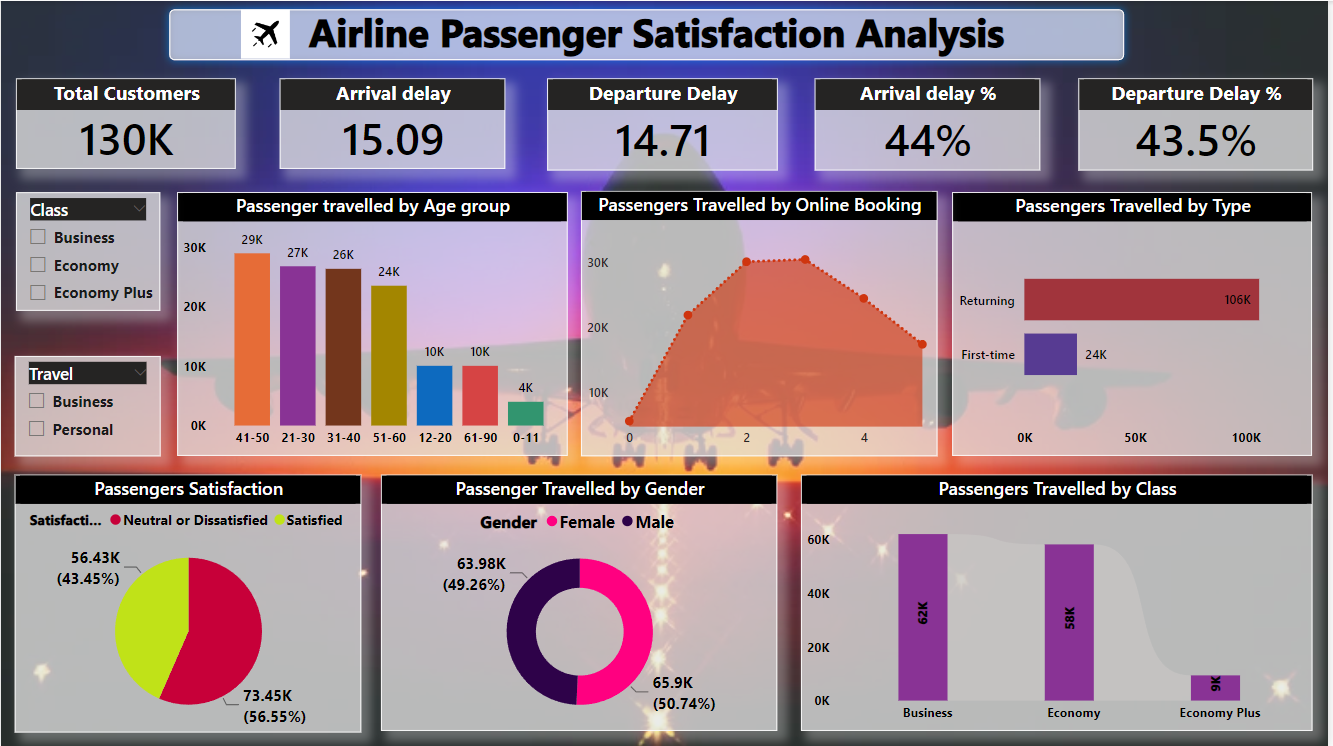

The page's visual inventory and layout, read from the dashboard file:
{"tool":"powerbi","page":{"name":"Insight's","canvas":[1280,720],"ordinal":0},"visuals":[{"type":"card","title":"Total Customers","fields":{"Values":["airline_passenger_satisfaction.Total  customer"]},"box":[14.3,74.6,212.2,87.5],"z":0},{"type":"card","title":"Arrival delay ","fields":{"Values":["Avg(airline_passenger_satisfaction.Arrival Delay)"]},"box":[269.5,74.6,217.9,87.5],"z":1000},{"type":"card","title":"Departure Delay ","fields":{"Values":["Avg(airline_passenger_satisfaction.Departure Delay)"]},"box":[527.6,74.6,222.2,88.9],"z":2000},{"type":"card","title":"Arrival delay %","fields":{"Values":["airline_passenger_satisfaction.Percentage of Arrival delay"]},"box":[785.7,74.6,217.9,88.9],"z":3000},{"type":"card","title":"Departure Delay %","fields":{"Values":["airline_passenger_satisfaction.Percentage of department delay"]},"box":[1039.4,74.6,226.5,88.9],"z":4000},{"type":"clusteredColumnChart","title":"Passenger travelled by Age group","fields":{"Category":["airline_passenger_satisfaction.Age group"],"Y":["CountNonNull(airline_passenger_satisfaction.ID)"]},"box":[170.1,184.6,376.4,254.6],"z":5000},{"type":"pieChart","title":"Passengers Satisfaction","fields":{"Category":["airline_passenger_satisfaction.Satisfaction"],"Y":["CountNonNull(airline_passenger_satisfaction.ID)"]},"box":[13.3,457.3,334.2,248.6],"z":6000},{"type":"donutChart","title":"Passenger Travelled by Gender","fields":{"Category":["airline_passenger_satisfaction.Gender"],"Y":["CountNonNull(airline_passenger_satisfaction.ID)"]},"box":[366.8,457.3,382.5,247.4],"z":7000},{"type":"slicer","title":"Travel Type","fields":{"Values":["airline_passenger_satisfaction.Type of Travel"]},"box":[13.3,342.7,141.2,96.5],"z":8000},{"type":"ribbonChart","title":"Passengers Travelled by Class","fields":{"Category":["airline_passenger_satisfaction.Class"],"Y":["CountNonNull(airline_passenger_satisfaction.ID)"]},"box":[772.2,457.3,493.5,247.4],"z":9000},{"type":"slicer","title":"CLass","fields":{"Values":["airline_passenger_satisfaction.Class"]},"box":[14.3,184.9,139.1,114.7],"z":10000},{"type":"clusteredBarChart","title":"Passengers Travelled by Type","fields":{"Category":["airline_passenger_satisfaction.Customer Type"],"Y":["airline_passenger_satisfaction.Total  customer"]},"box":[918.3,184.6,347.5,254.6],"z":11000},{"type":"areaChart","title":"Passengers Travelled by Online Booking","fields":{"Y":["airline_passenger_satisfaction.Total  customer"],"Category":["airline_passenger_satisfaction.Ease of Online Booking"]},"box":[559.9,183.4,343.9,255.8],"z":12000},{"type":"shape","box":[154.4,0,937.6,65.2],"z":12500},{"type":"textbox","box":[226.8,0,812.1,61.5],"z":13000},{"type":"image","box":[226.8,1.2,56.7,61.5],"z":13001}]}

Visuals, with their boxes in screenshot pixels (x1, y1, x2, y2), scaled from the page's 1280x720 canvas onto the 1333x746 screenshot:
"Total Customers" card: (x1=15, y1=77, x2=236, y2=168)
"Arrival delay " card: (x1=281, y1=77, x2=508, y2=168)
"Departure Delay " card: (x1=549, y1=77, x2=781, y2=169)
"Arrival delay %" card: (x1=818, y1=77, x2=1045, y2=169)
"Departure Delay %" card: (x1=1082, y1=77, x2=1318, y2=169)
"Passenger travelled by Age group" clusteredColumnChart: (x1=177, y1=191, x2=569, y2=455)
"Passengers Satisfaction" pieChart: (x1=14, y1=474, x2=362, y2=731)
"Passenger Travelled by Gender" donutChart: (x1=382, y1=474, x2=780, y2=730)
"Travel Type" slicer: (x1=14, y1=355, x2=161, y2=455)
"Passengers Travelled by Class" ribbonChart: (x1=804, y1=474, x2=1318, y2=730)
"CLass" slicer: (x1=15, y1=192, x2=160, y2=310)
"Passengers Travelled by Type" clusteredBarChart: (x1=956, y1=191, x2=1318, y2=455)
"Passengers Travelled by Online Booking" areaChart: (x1=583, y1=190, x2=941, y2=455)
shape: (x1=161, y1=0, x2=1137, y2=68)
textbox: (x1=236, y1=0, x2=1082, y2=64)
image: (x1=236, y1=1, x2=295, y2=65)
